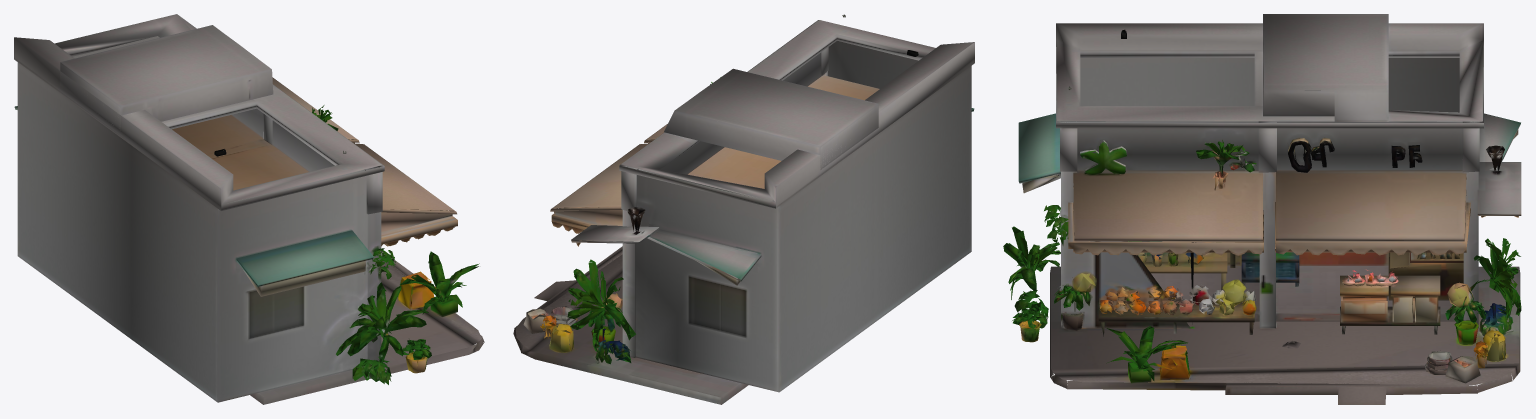
The model's file is environment.neighborhood-market-01.lod1.glb.
3 renders of one model, left to right at view 1: azimuth 30°, elevation 25°; view 2: azimuth 150°, elevation 25°; view 3: azimuth 270°, elevation 25°, orthographic. The views are drawn at different scales.
Parts seen in each view (by area): view 1: environment.neighborhood-market-01_LOD1_00; view 2: environment.neighborhood-market-01_LOD1_00; view 3: environment.neighborhood-market-01_LOD1_00.
Boxes of the visible parts, x1,y1,x2,y2 form: environment.neighborhood-market-01_LOD1_00: [14, 14, 484, 404]; environment.neighborhood-market-01_LOD1_00: [513, 14, 974, 404]; environment.neighborhood-market-01_LOD1_00: [1003, 14, 1521, 404].
Size of the model in its own units: 7 by 5.19 by 10.14.
Materials: 1 (1 with a texture image).
